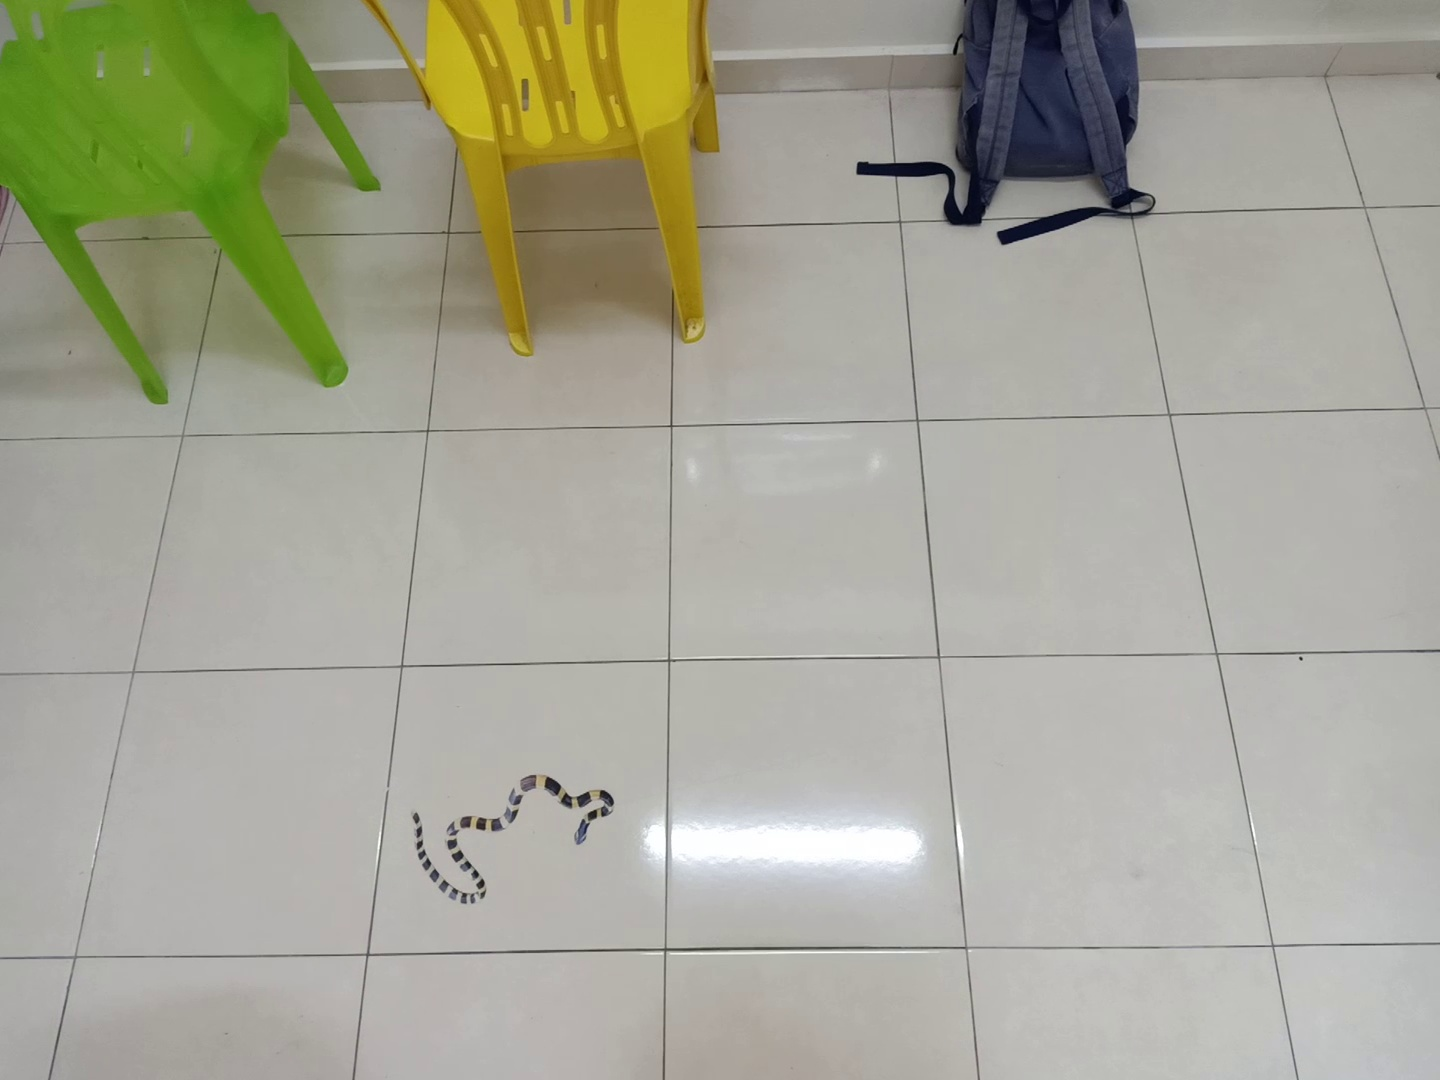snake: (406, 769, 621, 908)
